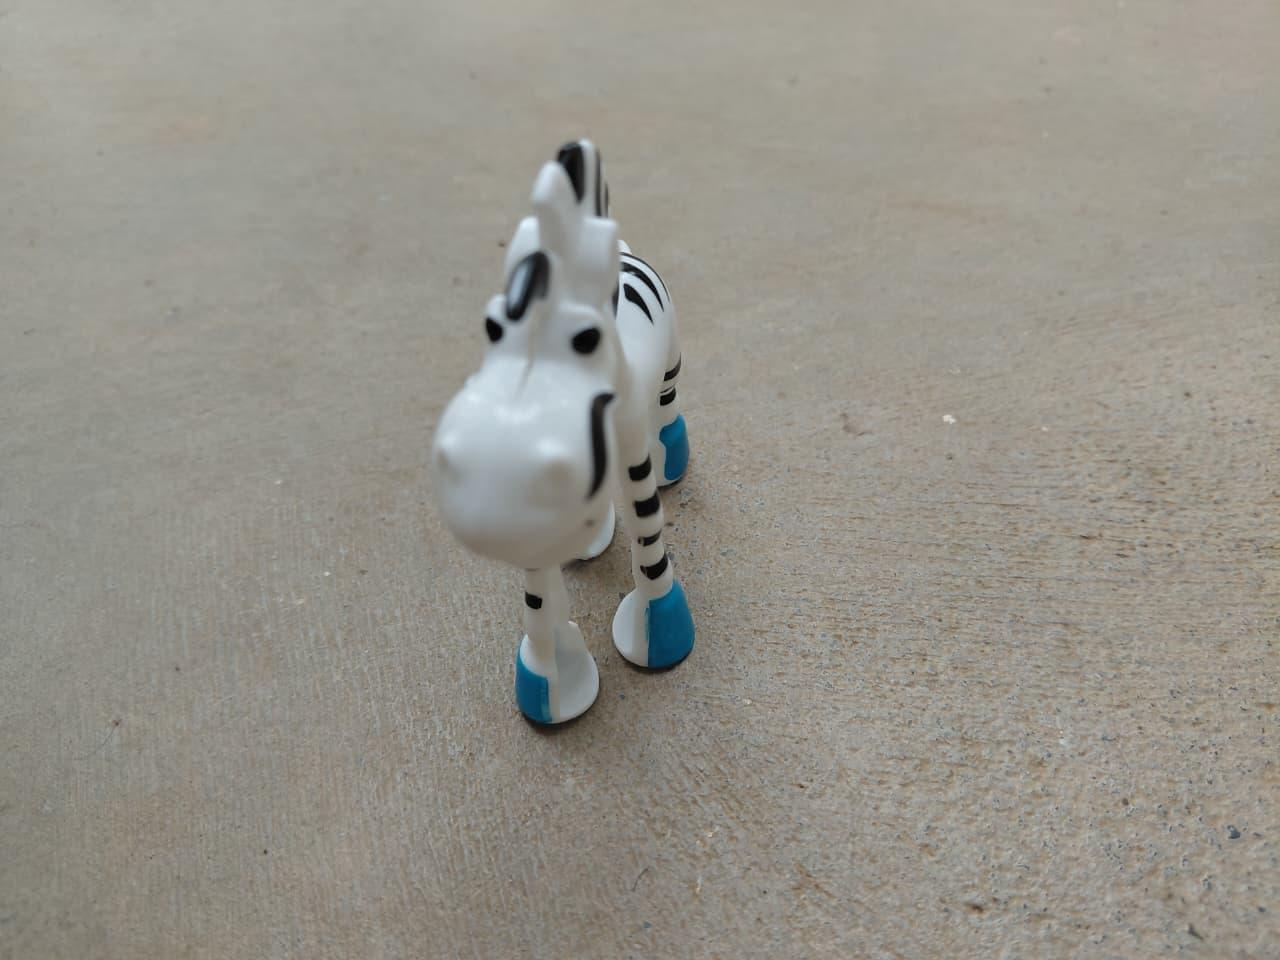zebra: (421, 116, 722, 732)
